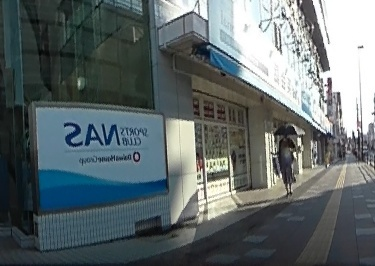person: (275, 130, 298, 192)
